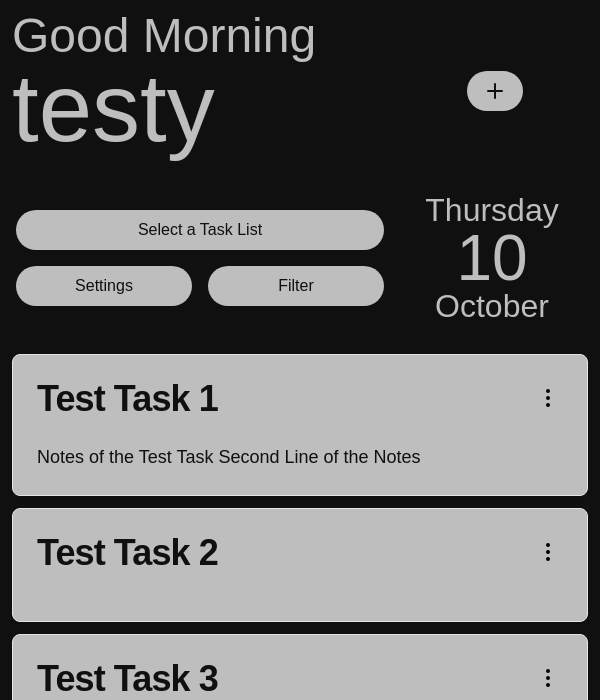
Test: Testing Cards › Testing Delete
Click the button with test id "card-drop" in the row of "Test Task 1". click: [548, 398]
box: [536,386,560,410]
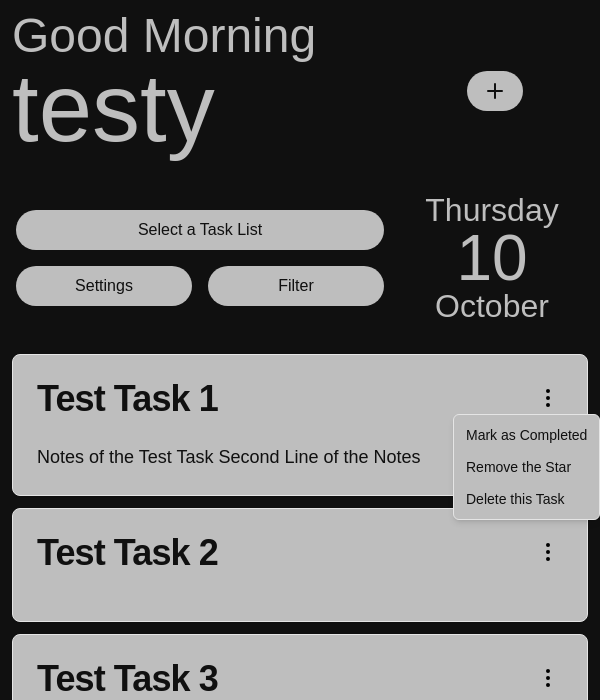
Click the menu item "Delete this Task". click: [516, 499]
box: [466,491,565,507]
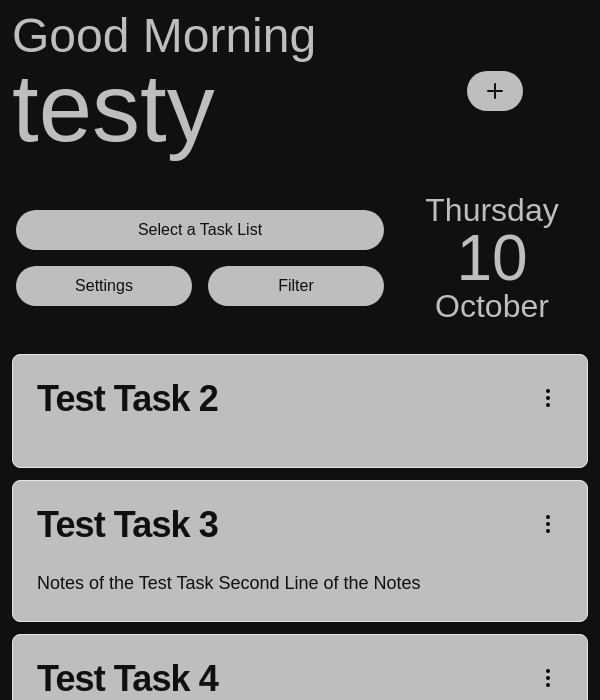
Expected: the number of elements with test id "card" is 7
